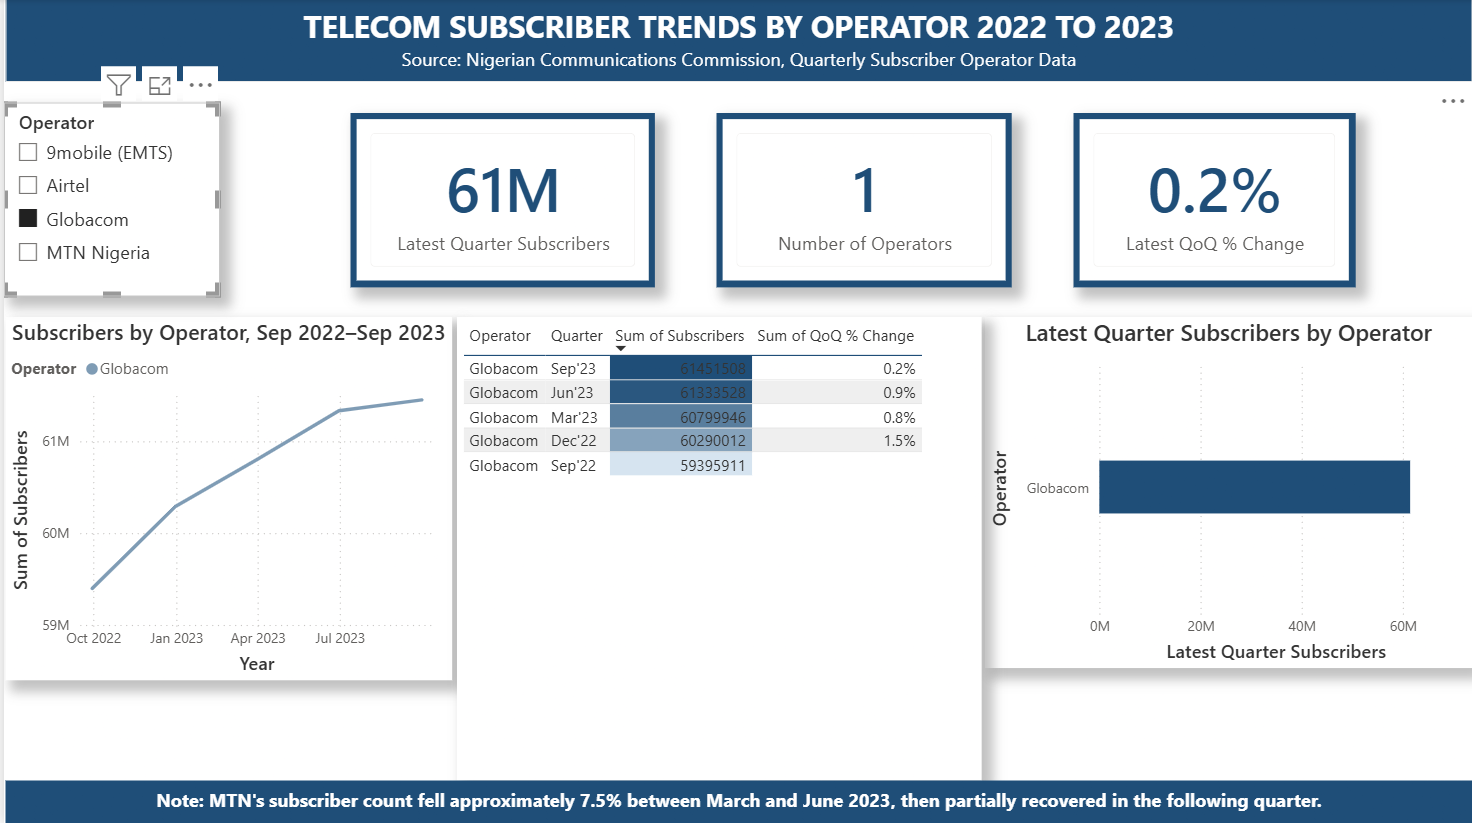

Layout of this report page (visuals, bound fields, positions):
{"tool":"powerbi","page":{"name":"Page 1","canvas":[1280,720],"ordinal":0},"visuals":[{"type":"slicer","fields":{"Values":["MasterSubscriberData.Operator"]},"box":[0,90.2,188.3,168.7],"z":0},{"type":"lineChart","title":"Subscribers by Operator, Sep 2022–Sep 2023","fields":{"Series":["MasterSubscriberData.Operator"],"Category":["MasterSubscriberData.Quarter End Date.Variation.Date Hierarchy.Year","MasterSubscriberData.Quarter End Date.Variation.Date Hierarchy.Quarter","MasterSubscriberData.Quarter End Date.Variation.Date Hierarchy.Month","MasterSubscriberData.Quarter End Date.Variation.Date Hierarchy.Day"],"Y":["Sum(MasterSubscriberData.Subscribers)"]},"box":[1.3,277.2,389.6,316.4],"z":1000},{"type":"cardVisual","fields":{"Data":["MasterSubscriberData.Latest Quarter Subscribers"]},"box":[302,99.4,265.4,151.7],"z":2000},{"type":"cardVisual","fields":{"Data":["MasterSubscriberData.Number of Operators"]},"box":[621.1,99.4,257.6,151.7],"z":3000},{"type":"cardVisual","fields":{"Data":["MasterSubscriberData.Latest QoQ % Change"]},"box":[932.3,99.4,245.8,151.7],"z":4000},{"type":"clusteredBarChart","fields":{"Category":["MasterSubscriberData.Operator"],"Y":["MasterSubscriberData.Latest Quarter Subscribers"]},"box":[855.1,277.2,424.9,306],"z":5000},{"type":"tableEx","fields":{"Values":["MasterSubscriberData.Operator","MasterSubscriberData.Quarter","Sum(MasterSubscriberData.Subscribers)","Sum(MasterSubscriberData.QoQ % Change)"]},"box":[394.2,277.2,457.6,404],"z":6000},{"type":"textbox","box":[1.3,0,1278.8,71.9],"z":7000},{"type":"textbox","box":[1.3,681.2,1278.8,39.2],"z":8000}]}

Visuals, with their boxes in screenshot pixels (x1, y1, x2, y2), scaled from the page's 1280x720 canvas onto the 1472x823 screenshot:
slicer - MasterSubscriberData.Operator: {"left": 0, "top": 103, "right": 217, "bottom": 296}
"Subscribers by Operator, Sep 2022–Sep 2023" lineChart: {"left": 1, "top": 317, "right": 450, "bottom": 679}
cardVisual - MasterSubscriberData.Latest Quarter Subscribers: {"left": 347, "top": 114, "right": 653, "bottom": 287}
cardVisual - MasterSubscriberData.Number of Operators: {"left": 714, "top": 114, "right": 1011, "bottom": 287}
cardVisual - MasterSubscriberData.Latest QoQ % Change: {"left": 1072, "top": 114, "right": 1355, "bottom": 287}
clusteredBarChart - MasterSubscriberData.Operator x MasterSubscriberData.Latest Quarter Subscribers: {"left": 983, "top": 317, "right": 1471, "bottom": 667}
tableEx - MasterSubscriberData.Operator x MasterSubscriberData.Quarter: {"left": 453, "top": 317, "right": 980, "bottom": 779}
textbox: {"left": 1, "top": 0, "right": 1471, "bottom": 82}
textbox: {"left": 1, "top": 779, "right": 1471, "bottom": 822}
